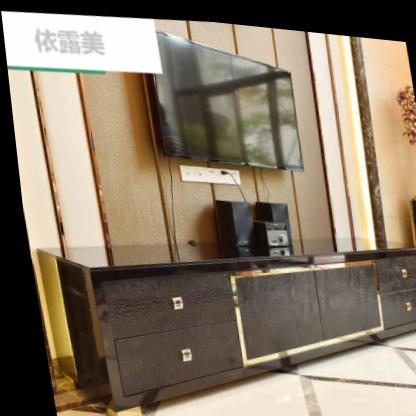Ceramic floor: (112, 314, 416, 416)
TV stand: (31, 228, 416, 416)
